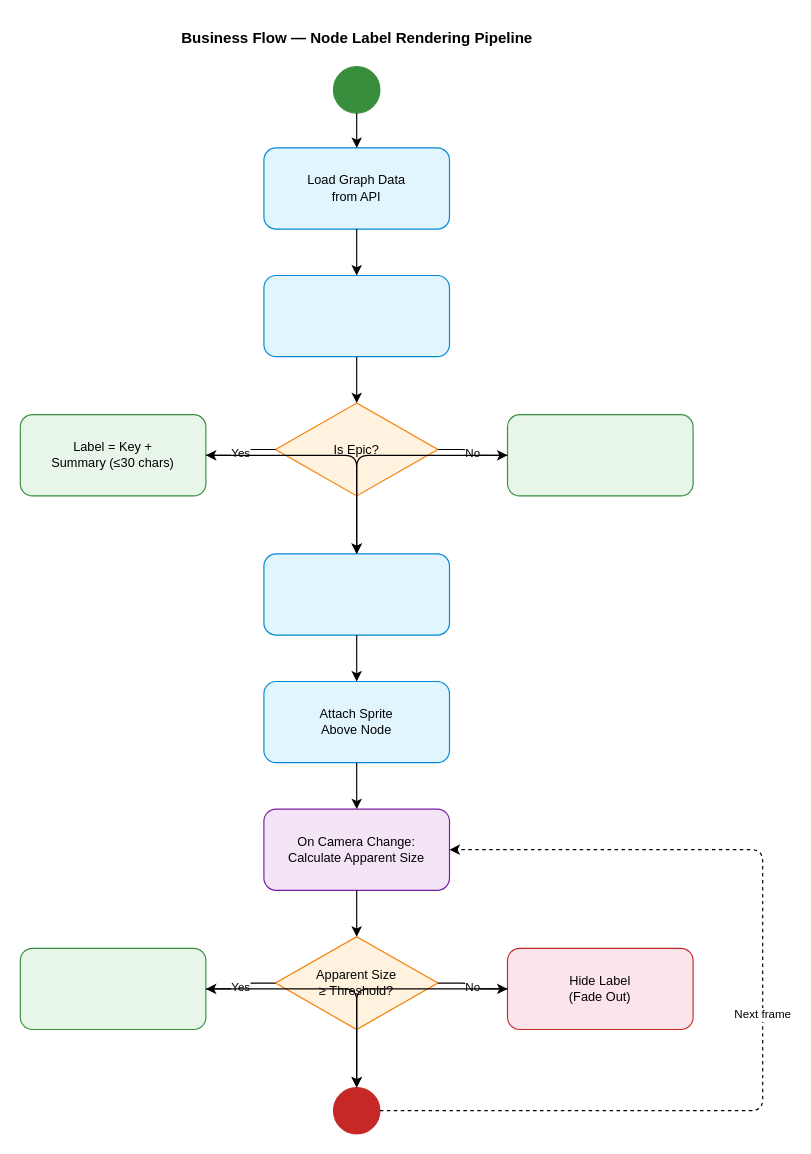
Some shapes in this 811 by 1154 pixel diagram are drawn without their labels. The shapes that lost their labels are listed below. From the top down, each one's centre as x and y in pixels, then its label:
At pixel 356 315: "Determine Label Content per Node".
At pixel 599 455: "Label = Key only".
At pixel 356 594: "Create Text Sprite (Billboard)".
At pixel 112 988: "Show Label (Fade In)".
